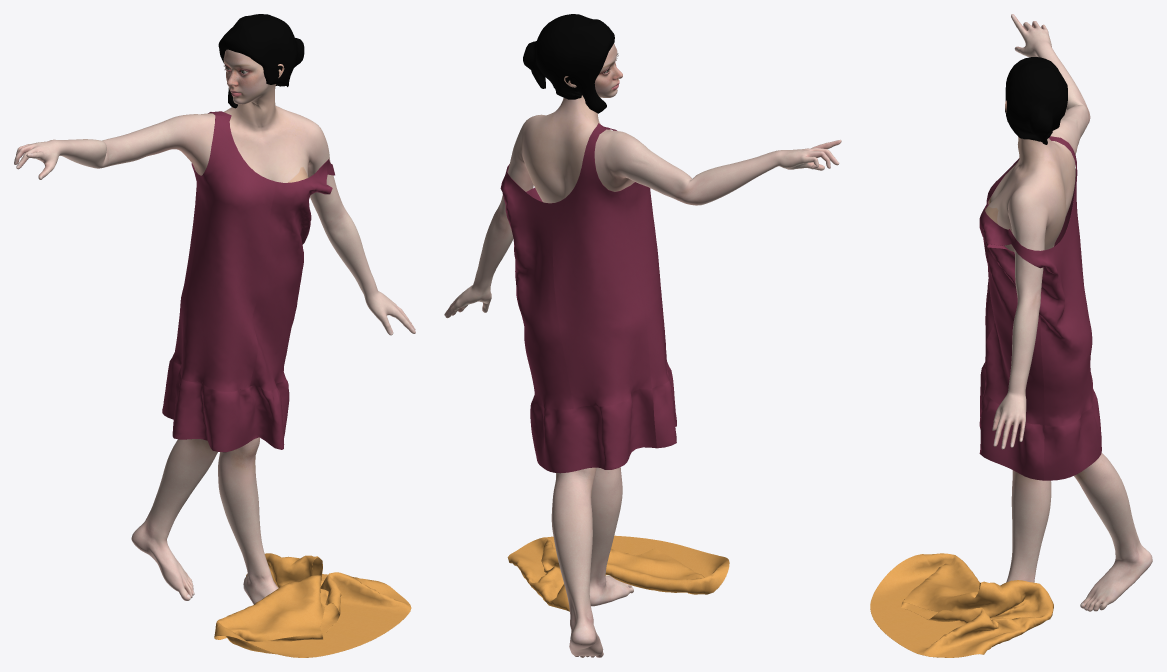
The model's file is Dynamic_2.obj.
3 views of the same model, side by side, from view 1: azimuth 30°, elevation 25°; view 2: azimuth 150°, elevation 25°; view 3: azimuth 270°, elevation 25° (orthographic). The views are drawn at different scales.
Bounding box in the file's own units: 1226 × 1775 × 802.
